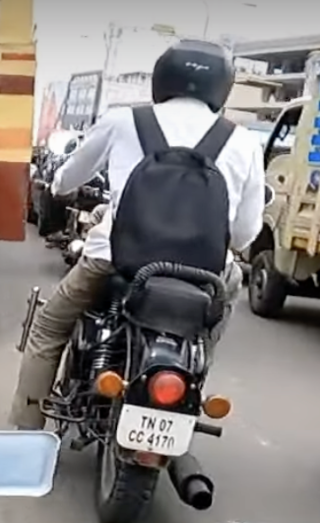motor: (29, 141, 268, 513)
number: (115, 402, 191, 456)
with helmet: (153, 32, 231, 111)
